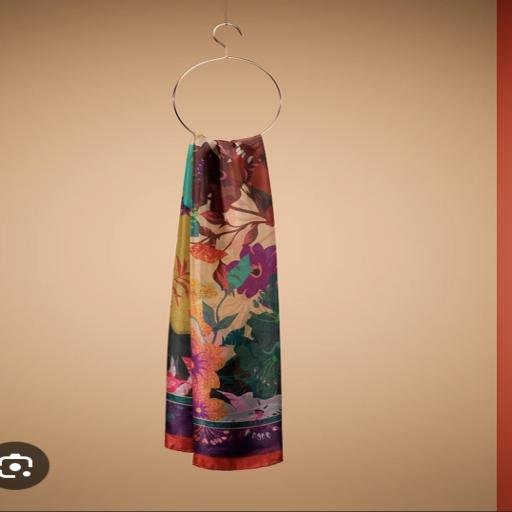Dupatta: (150, 125, 290, 476)
